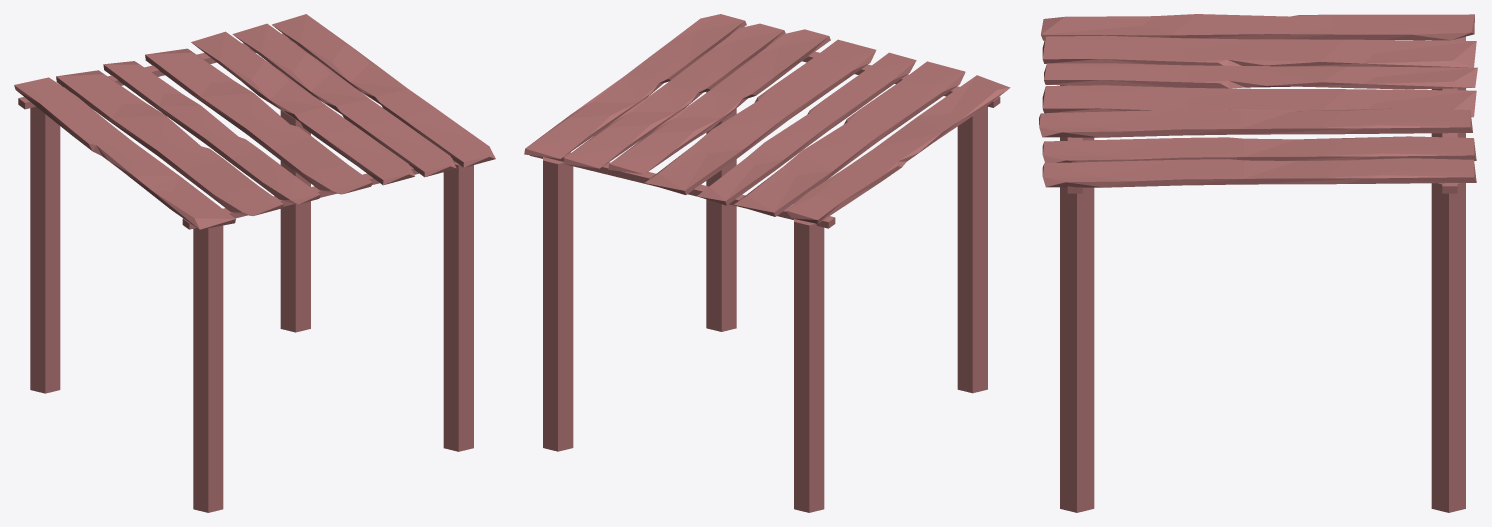
File: platformFlatShip.glb
3 views of the same model, side by side, from view 1: azimuth 30°, elevation 25°; view 2: azimuth 150°, elevation 25°; view 3: azimuth 270°, elevation 25° (orthographic). The views are drawn at different scales.
Visible parts, largest first — view 1: Cylinder077; view 2: Cylinder077; view 3: Cylinder077.
Part boxes in pixels (x1,y1,x2,y2): Cylinder077: [14, 14, 495, 512]; Cylinder077: [524, 14, 1010, 512]; Cylinder077: [1039, 14, 1477, 512].
Bounding box in the file's own units: 2.88 × 2.77 × 3.2.
